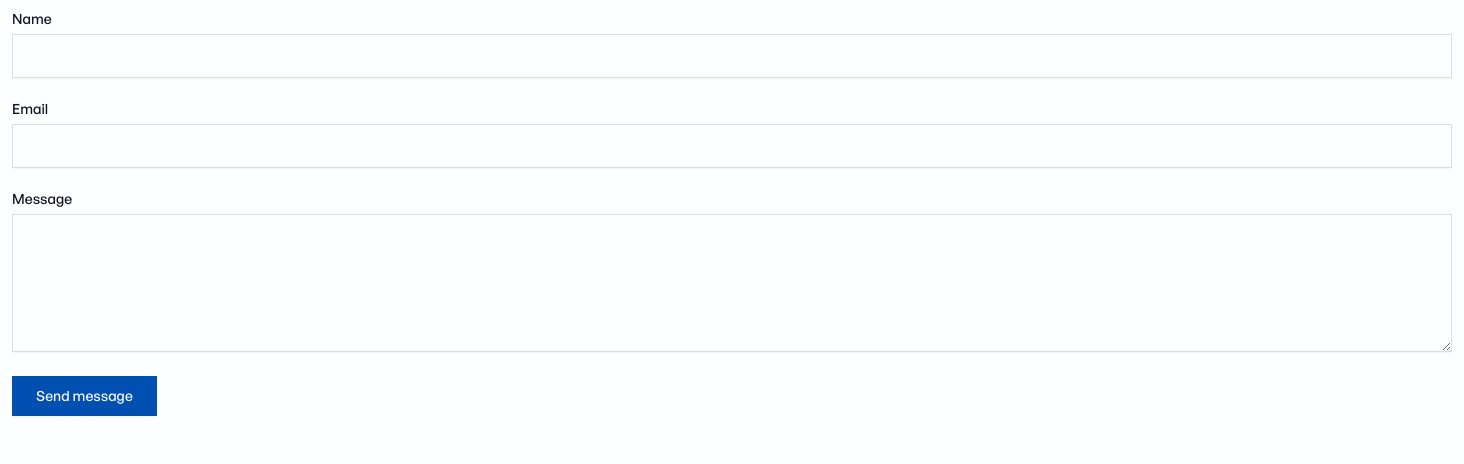
Test: ContactForm › rejects a malformed email with an inline error
Expected: the button "Send message" is shown, [12,376,157,416]
Type "Ada Lovelace" into the field labelled "Name" at point(732, 56), box [12,34,1452,78]
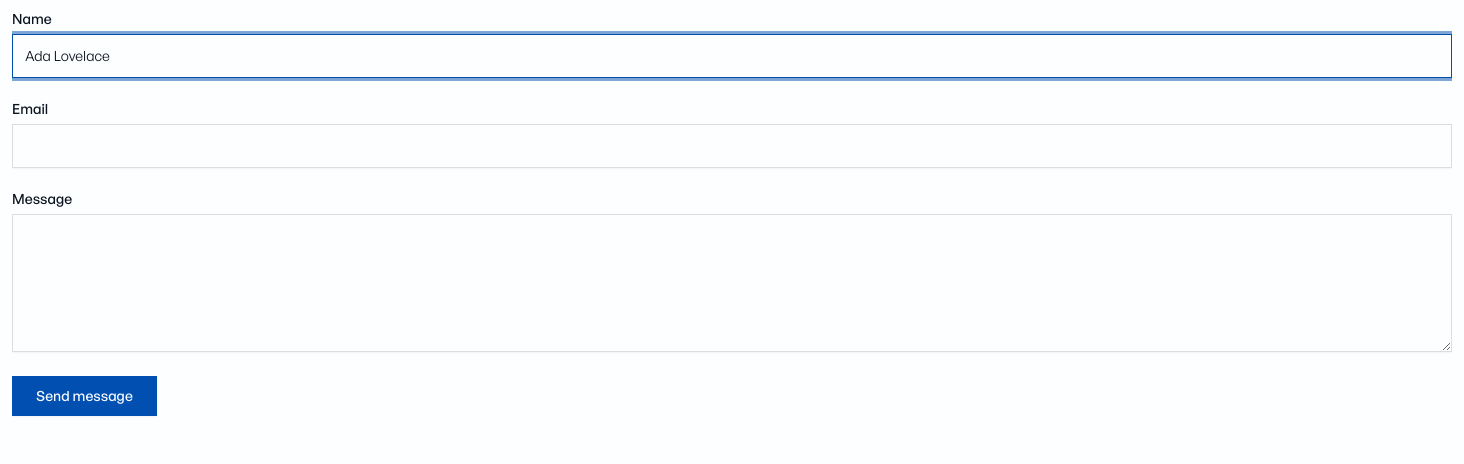
Expected: the button "Send message" is shown, [12,376,157,416]
Type "not-an-email" into the field labelled "Email" at point(732, 146), box [12,124,1452,168]
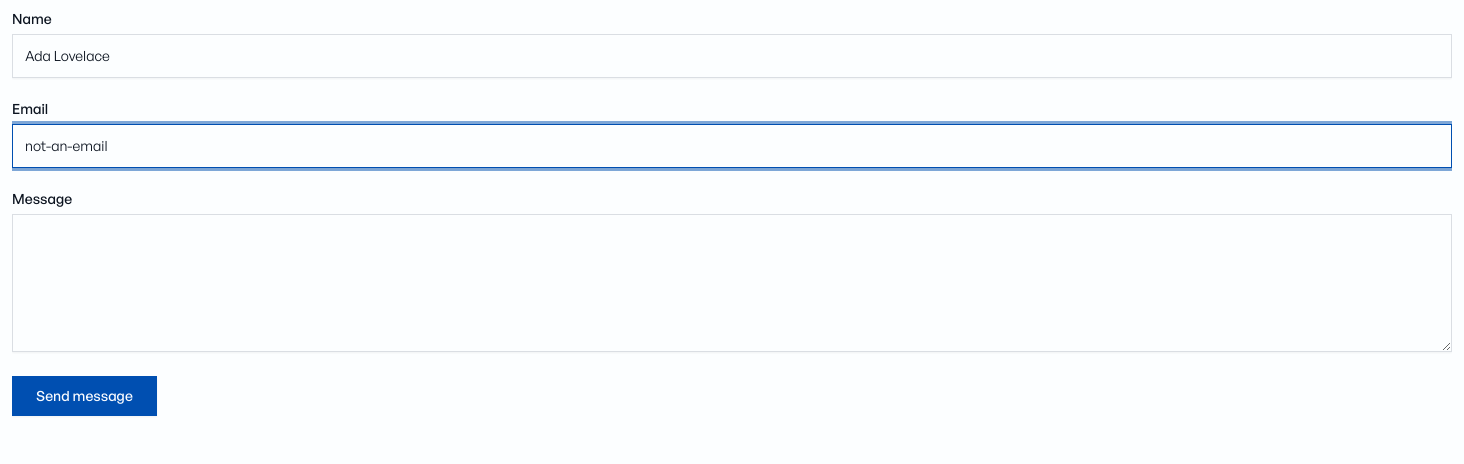
Type "I would like to learn more about your products." into the text box labelled "Message" at point(732, 283), box [12,214,1452,352]
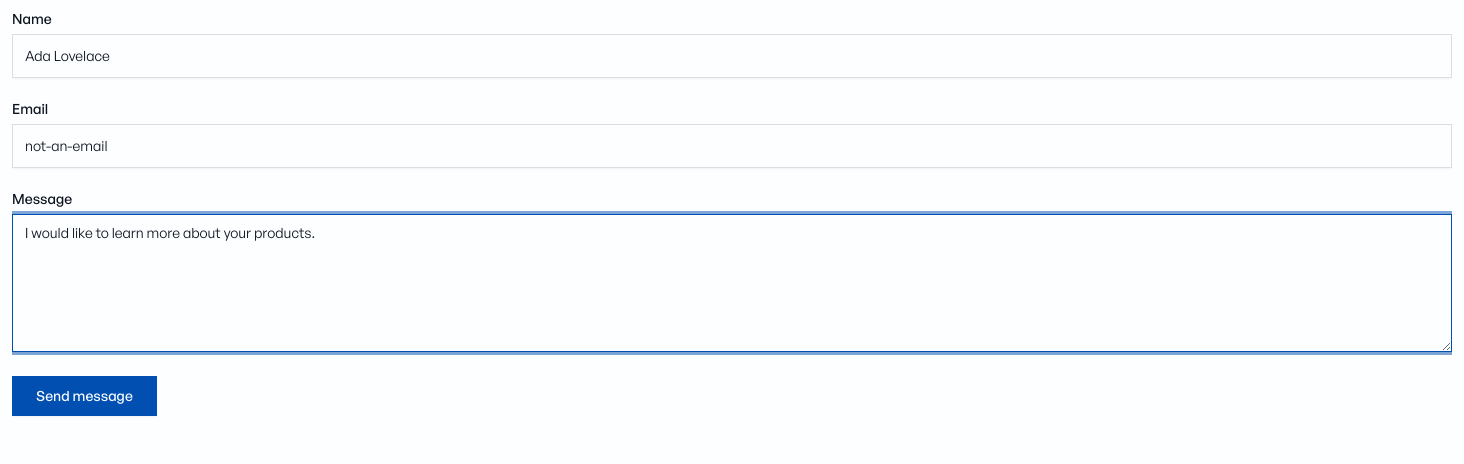
Click the button "Send message" at point(84, 396), box [12,376,157,416]
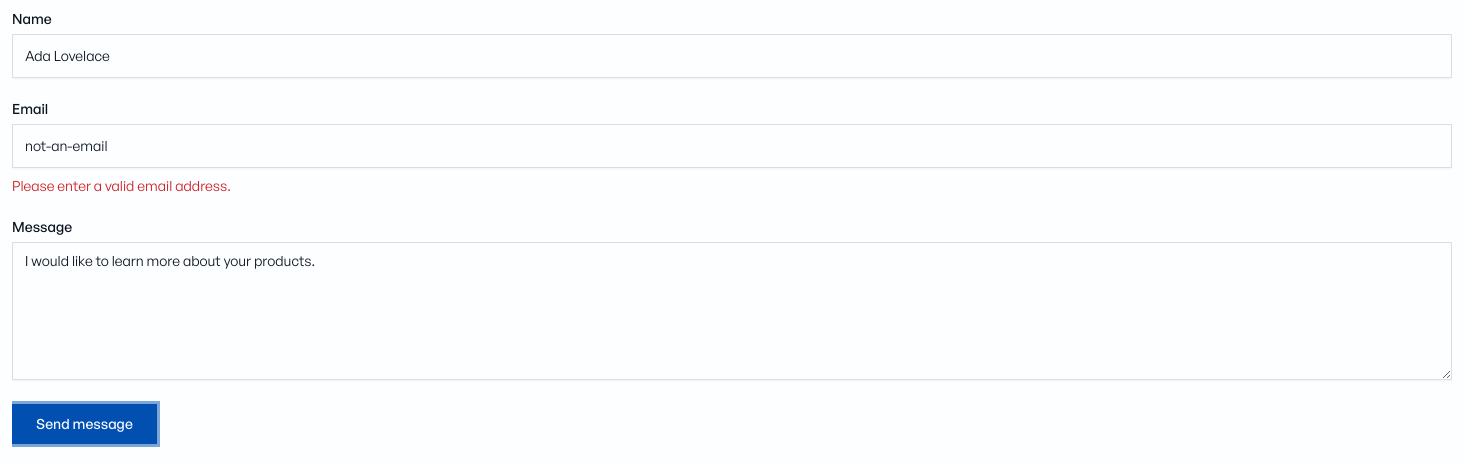
Expected: the text "Please enter a valid email address." is shown, [12,177,231,194]
